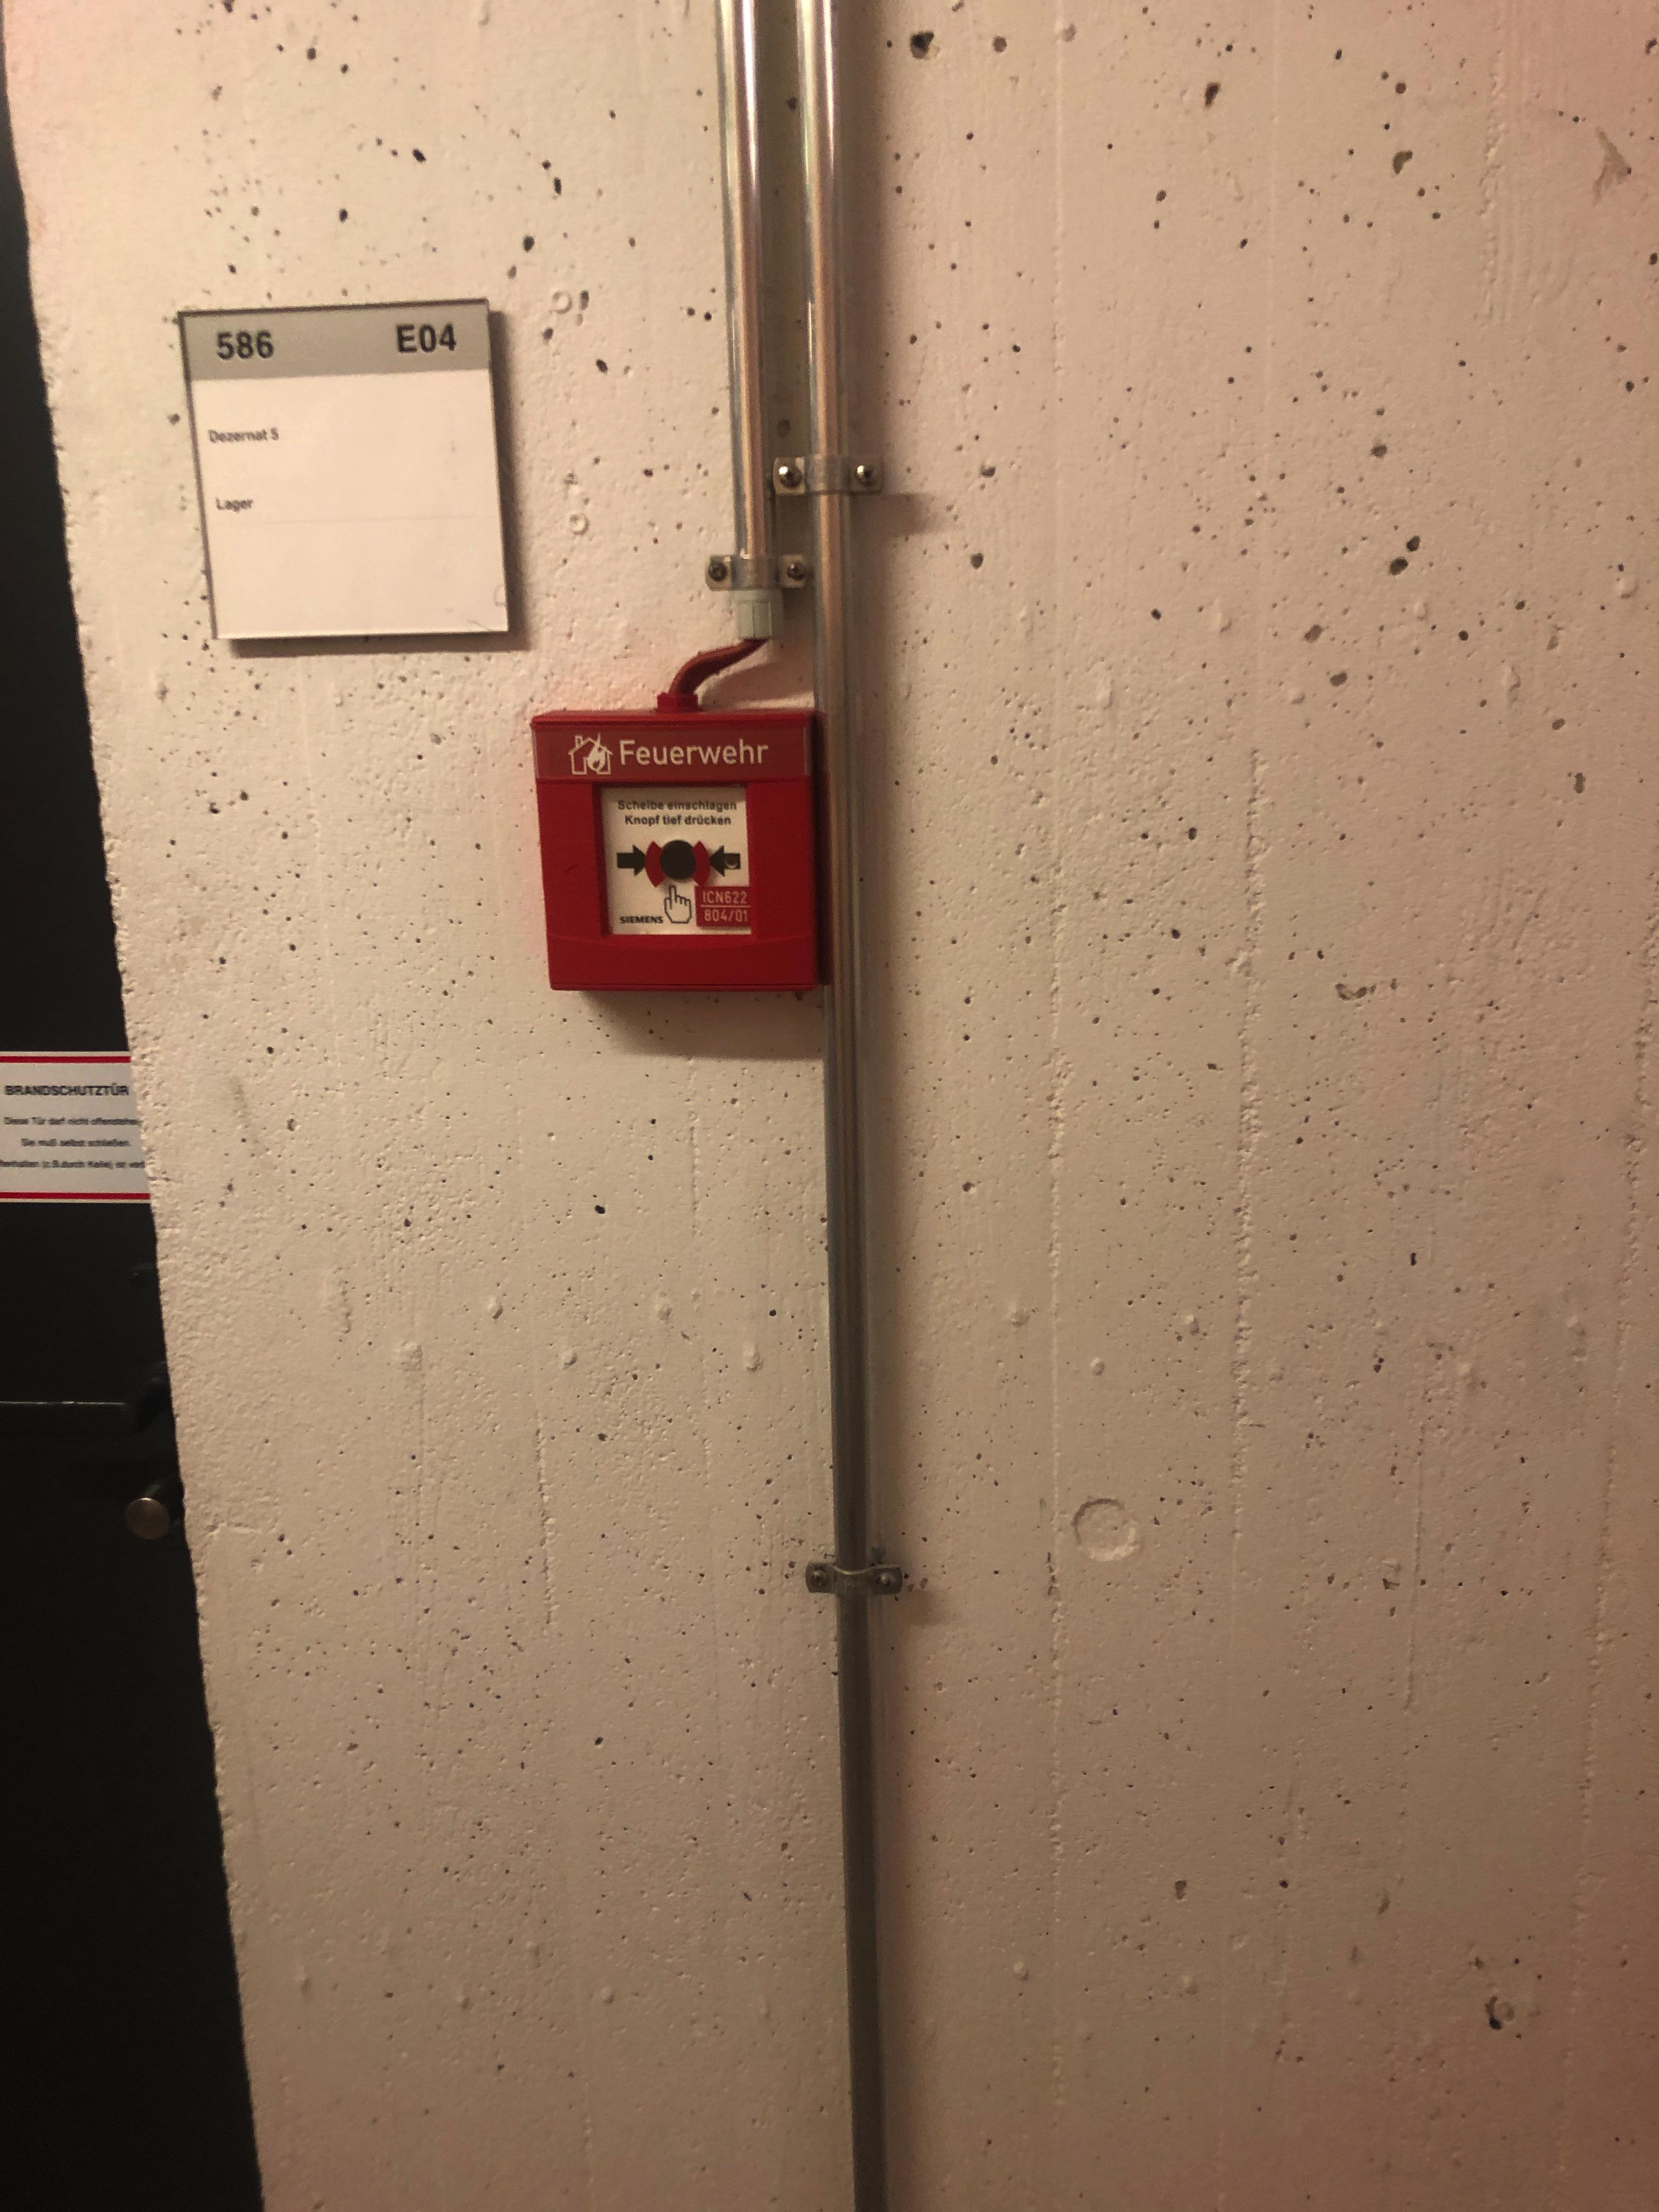call_point: (532, 705, 823, 992)
